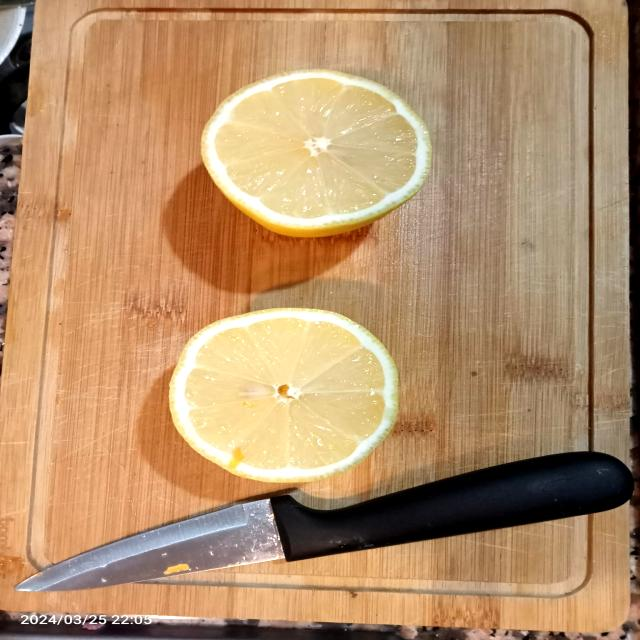lemon: (142, 292, 438, 490), (184, 54, 452, 252)
